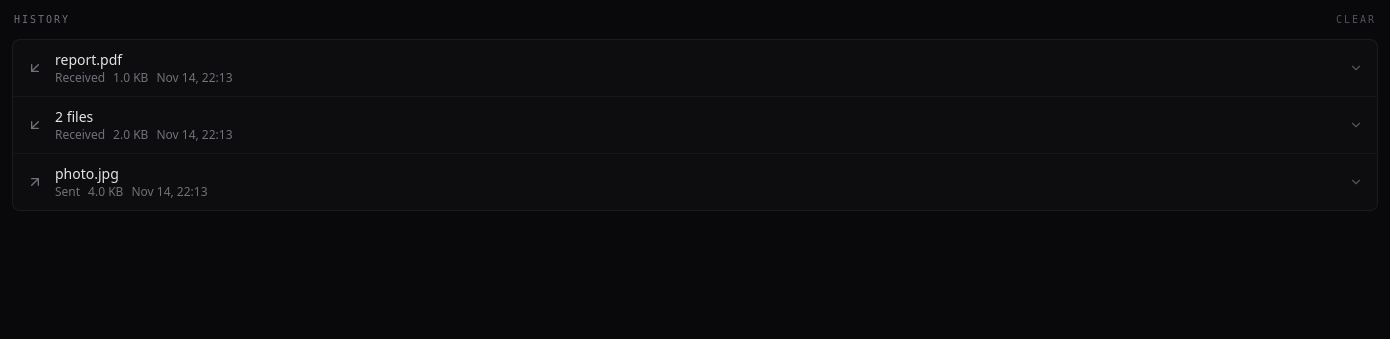
it: expanding a row › opens one panel at a time and reveals the file from it
Click the button "report.pdf Received 1.0 KB Nov 14, 22:13".
click(89, 60)  # box left=13, top=40, right=1377, bottom=96
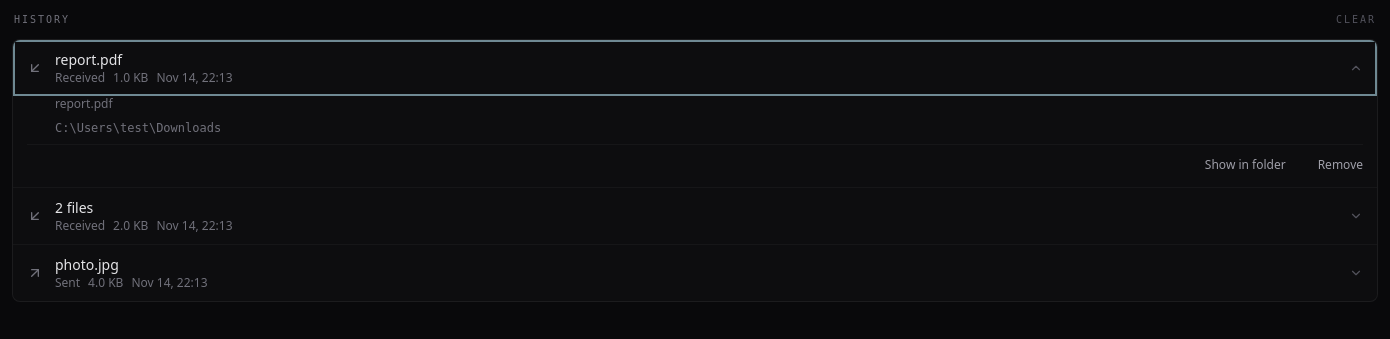
Expected: the button "Remove" is shown, left=1310, top=153, right=1371, bottom=177
Expected: the text "C:\\Users\\test\\Downloads" is shown, left=55, top=121, right=221, bottom=135
Click the button "Show in folder".
click(1245, 165)  # box left=1197, top=153, right=1294, bottom=177
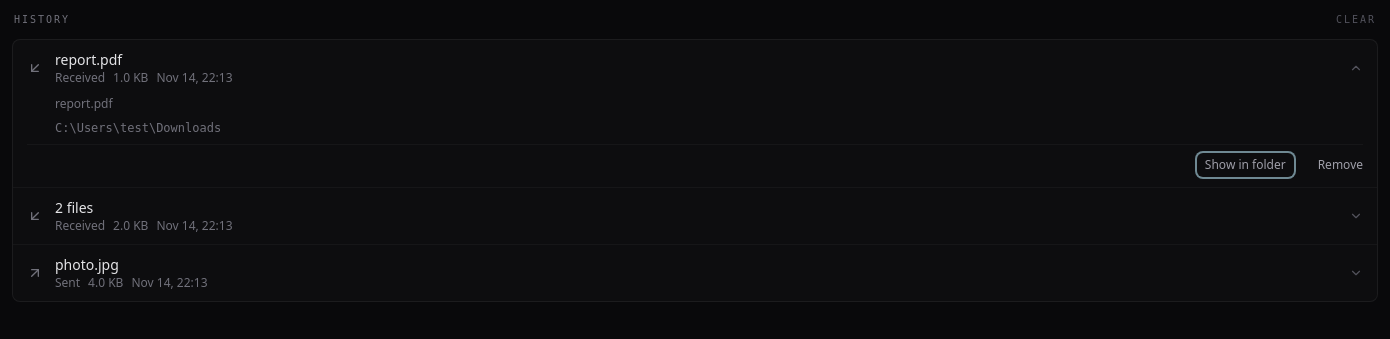
// Opening another row closes the first: expandedRow is one key.
Click the button "2 files Received 2.0 KB Nov 14, 22:13".
click(74, 208)  # box left=13, top=188, right=1377, bottom=244
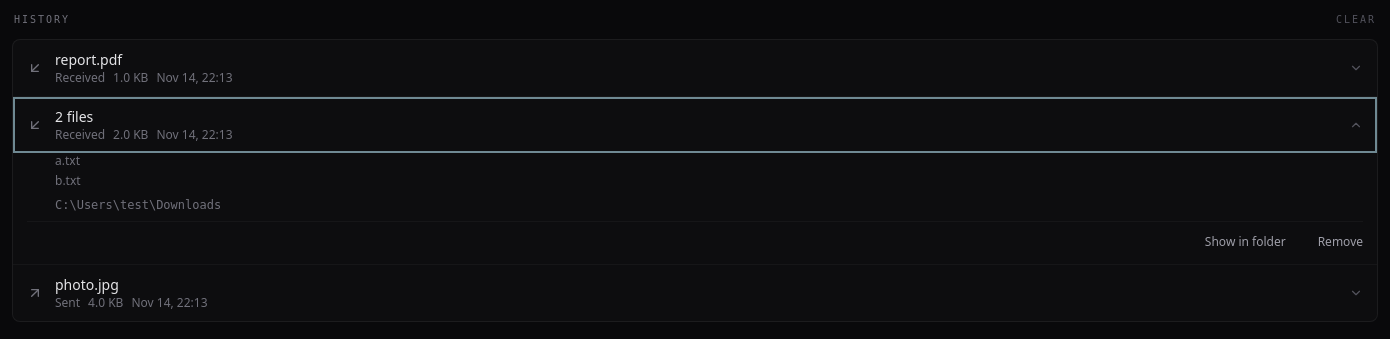
Expected: the number of buttons "Remove" is 1, left=1310, top=230, right=1371, bottom=254
Expected: the button "2 files Received 2.0 KB Nov 14, 22:13" is expanded, left=13, top=97, right=1377, bottom=153
Expected: the list item "a.txt" is shown, left=55, top=153, right=80, bottom=169
Click the button "Show in folder".
click(1245, 242)  # box left=1197, top=230, right=1294, bottom=254
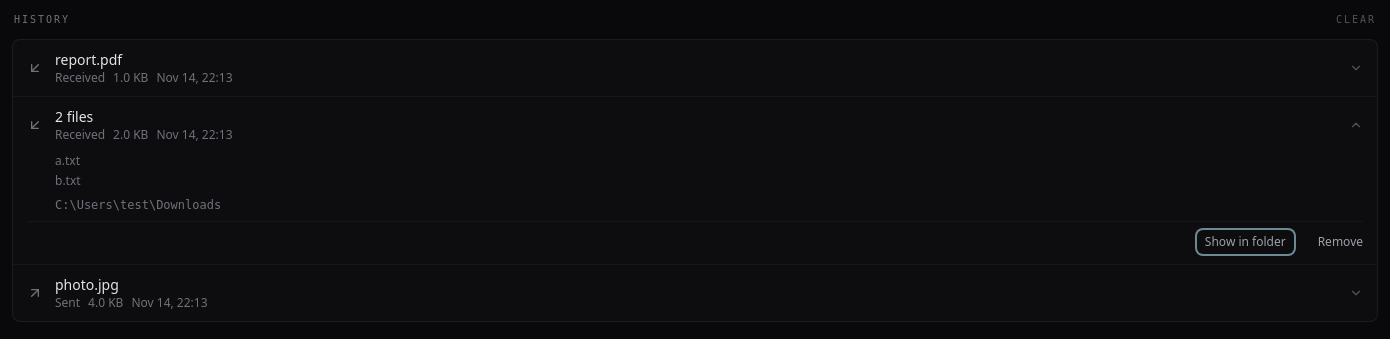
// A sent row has no folder to show, and a second click collapses it.
Click the button "photo.jpg Sent 4.0 KB Nov 14, 22:13".
click(87, 284)  # box left=13, top=265, right=1377, bottom=321
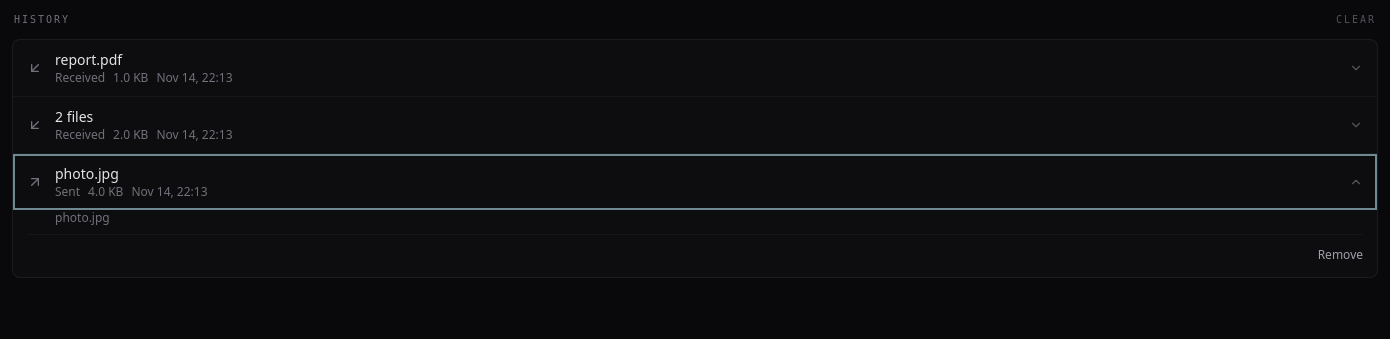
Expected: the button "Show in folder" is gone
Click the button "photo.jpg Sent 4.0 KB Nov 14, 22:13".
click(87, 174)  # box left=13, top=154, right=1377, bottom=210
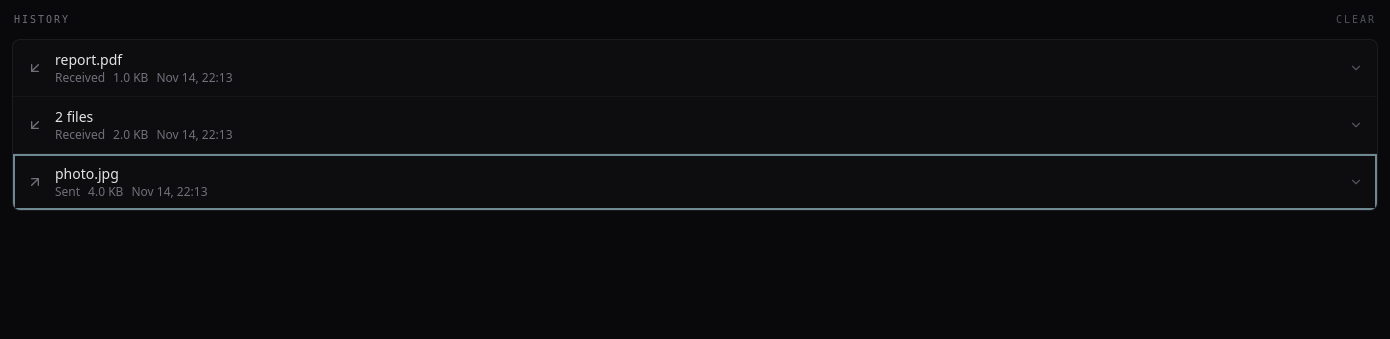
Expected: the button "Remove" is gone
